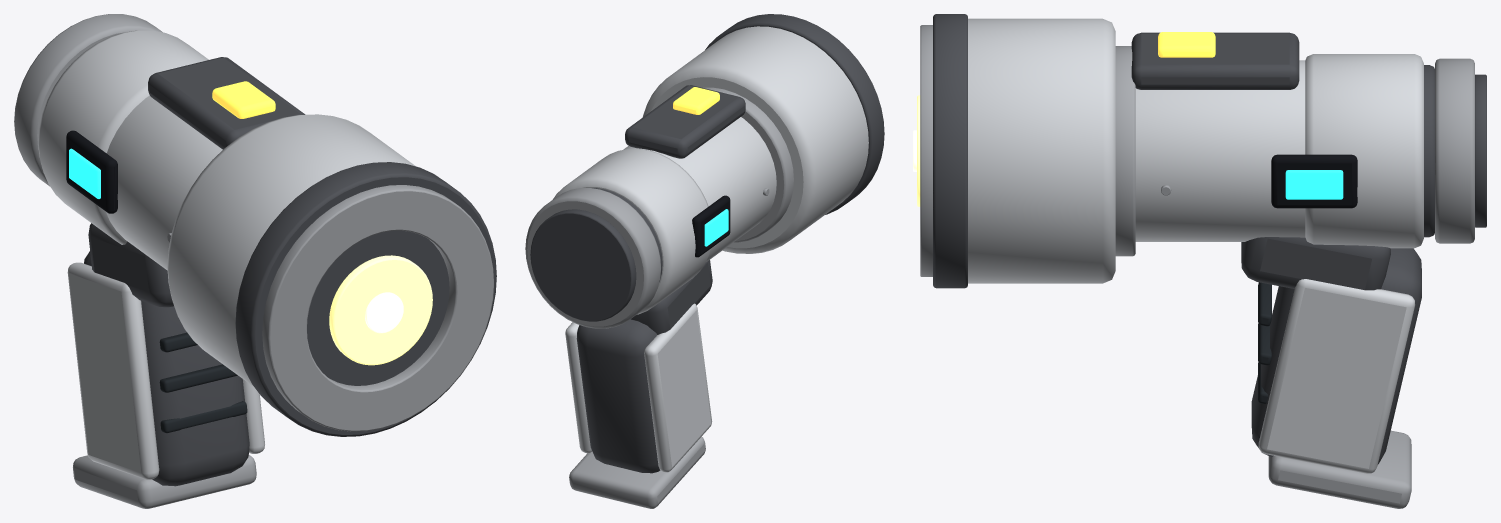
Rendered from CubeEscape_Flashlight.glb.
3 renders of one model, left to right at view 1: azimuth 30°, elevation 25°; view 2: azimuth 150°, elevation 25°; view 3: azimuth 270°, elevation 25°, orthographic. The views are drawn at different scales.
Visible parts, largest first — view 1: SM_PG_ReflectorRim, SM_PG_HeadHousing, SM_PG_HeadFrontCollar, SM_PG_GripSideArmor_L, SM_PG_BatteryShell, SM_PG_GripCore, SM_PG_BodySleeve, SM_PG_Lens, SM_PG_TopRail, SM_PG_RearCap, SM_PG_GripHeel, SM_PG_GripMount (+7 smaller); view 2: SM_PG_HeadHousing, SM_PG_GripCore, SM_PG_RearSeal, SM_PG_BatteryShell, SM_PG_GripSideArmor_L, SM_PG_BodySleeve, SM_PG_RearCap, SM_PG_TopRail, SM_PG_HeadFrontCollar, SM_PG_GripHeel, SM_PG_BodyBand, SM_PG_GripMount (+4 smaller); view 3: SM_PG_HeadHousing, SM_PG_BodySleeve, SM_PG_GripSideArmor_R, SM_PG_BatteryShell, SM_PG_HeadFrontCollar, SM_PG_TopRail, SM_PG_RearCap, SM_PG_GripMount, SM_PG_GripHeel, SM_PG_GripCore, SM_PG_BodyBand, SM_PG_ReflectorRim (+5 smaller).
Boxes of the visible parts, bbox=[...] form: SM_PG_ReflectorRim: bbox=[262, 185, 493, 431]; SM_PG_HeadHousing: bbox=[167, 114, 415, 386]; SM_PG_HeadFrontCollar: bbox=[235, 162, 496, 436]; SM_PG_GripSideArmor_L: bbox=[67, 262, 159, 479]; SM_PG_BatteryShell: bbox=[38, 30, 208, 244]; SM_PG_GripCore: bbox=[84, 251, 249, 486]; SM_PG_BodySleeve: bbox=[105, 95, 222, 270]; SM_PG_Lens: bbox=[329, 255, 432, 365]; SM_PG_TopRail: bbox=[148, 57, 305, 149]; SM_PG_RearCap: bbox=[14, 14, 162, 186]; SM_PG_GripHeel: bbox=[73, 455, 256, 508]; SM_PG_GripMount: bbox=[88, 223, 173, 307]; SM_PG_HeadHousing: bbox=[642, 26, 868, 253]; SM_PG_GripCore: bbox=[576, 319, 660, 473]; SM_PG_RearSeal: bbox=[530, 209, 636, 321]; SM_PG_BatteryShell: bbox=[553, 149, 710, 314]; SM_PG_GripSideArmor_L: bbox=[644, 303, 712, 472]; SM_PG_BodySleeve: bbox=[623, 117, 776, 262]; SM_PG_RearCap: bbox=[525, 188, 660, 328]; SM_PG_TopRail: bbox=[625, 85, 745, 158]; SM_PG_HeadFrontCollar: bbox=[705, 14, 884, 214]; SM_PG_GripHeel: bbox=[569, 436, 705, 508]; SM_PG_BodyBand: bbox=[703, 87, 793, 242]; SM_PG_GripMount: bbox=[631, 260, 712, 334]; SM_PG_HeadHousing: bbox=[968, 18, 1115, 283]; SM_PG_BodySleeve: bbox=[1135, 60, 1305, 241]; SM_PG_GripSideArmor_R: bbox=[1258, 279, 1415, 473]; SM_PG_BatteryShell: bbox=[1305, 54, 1423, 248]; SM_PG_HeadFrontCollar: bbox=[933, 14, 967, 288]; SM_PG_TopRail: bbox=[1131, 32, 1299, 89]; SM_PG_RearCap: bbox=[1435, 58, 1474, 243]; SM_PG_GripMount: bbox=[1241, 237, 1390, 290]; SM_PG_GripHeel: bbox=[1268, 430, 1411, 508]; SM_PG_GripCore: bbox=[1251, 248, 1421, 464]; SM_PG_BodyBand: bbox=[1115, 46, 1135, 256]; SM_PG_ReflectorRim: bbox=[920, 25, 932, 276].
Size of the model in its own units: 0.172 by 0.3164 by 0.3595.
